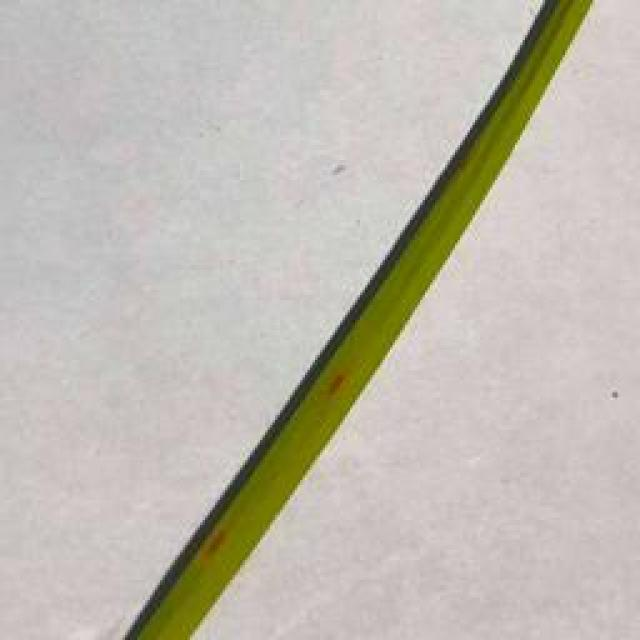Brown_Spot: (176, 522, 244, 566), (334, 366, 354, 406)
